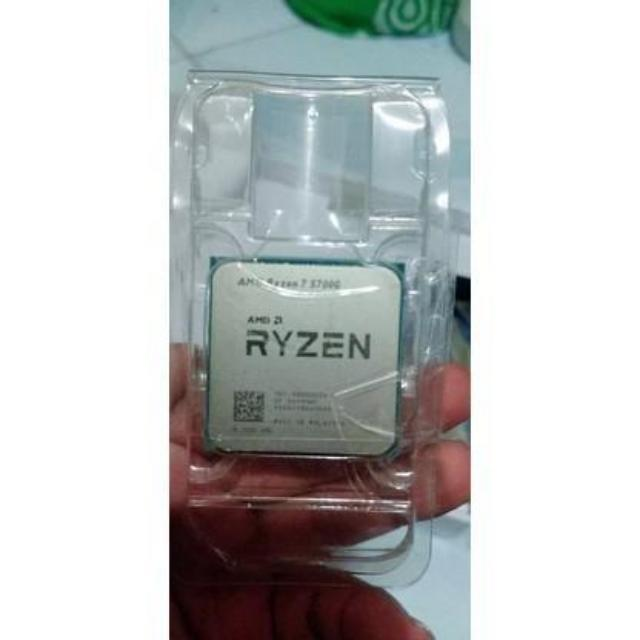CPU: (208, 259, 397, 456)
